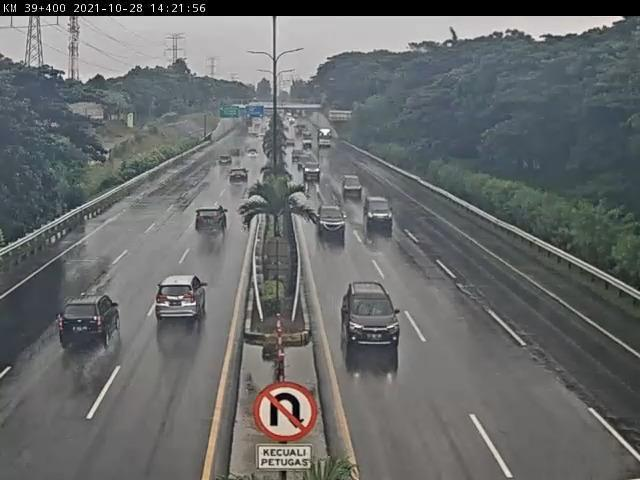car: (344, 283, 402, 352), (57, 293, 122, 349), (156, 274, 211, 324), (316, 206, 348, 241), (364, 196, 395, 232), (194, 205, 230, 235), (341, 174, 366, 198), (305, 163, 326, 184), (230, 166, 250, 184), (219, 154, 236, 169), (293, 149, 307, 166)
